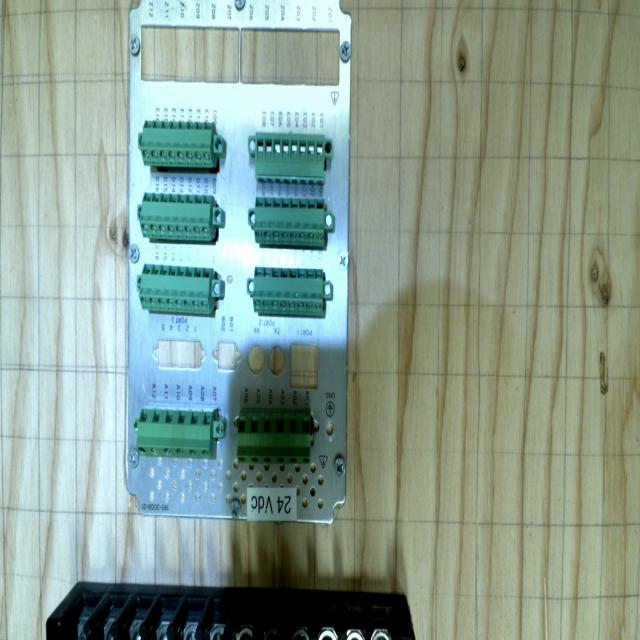Terminal_1: (136, 408, 213, 459), (237, 412, 311, 465)
Terminal_2: (138, 263, 213, 314), (253, 196, 326, 246), (252, 266, 325, 315), (139, 193, 213, 240), (141, 121, 214, 167)
